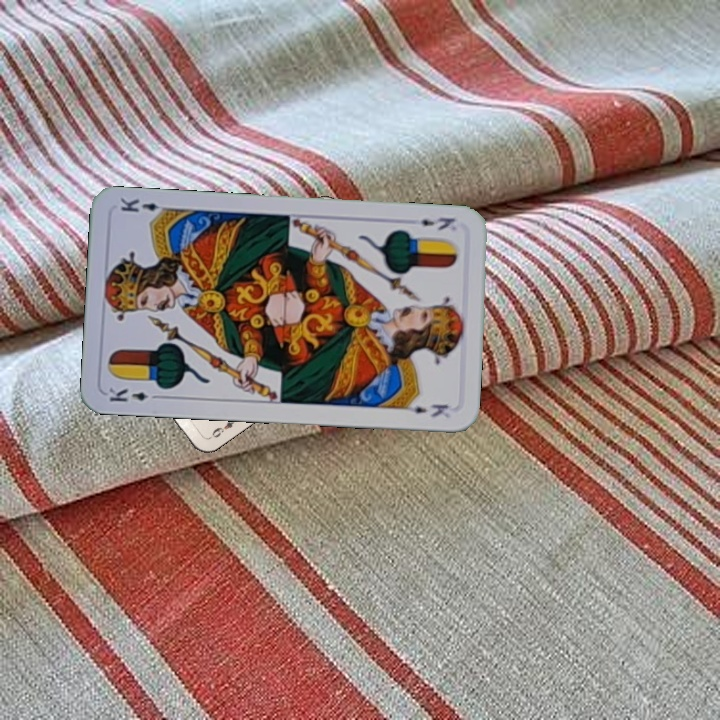E9: (204, 415, 240, 442)
EK: (105, 383, 164, 405), (417, 213, 458, 233)
